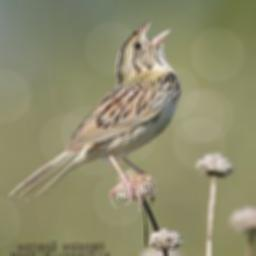Sparrow: (3, 15, 183, 216)
